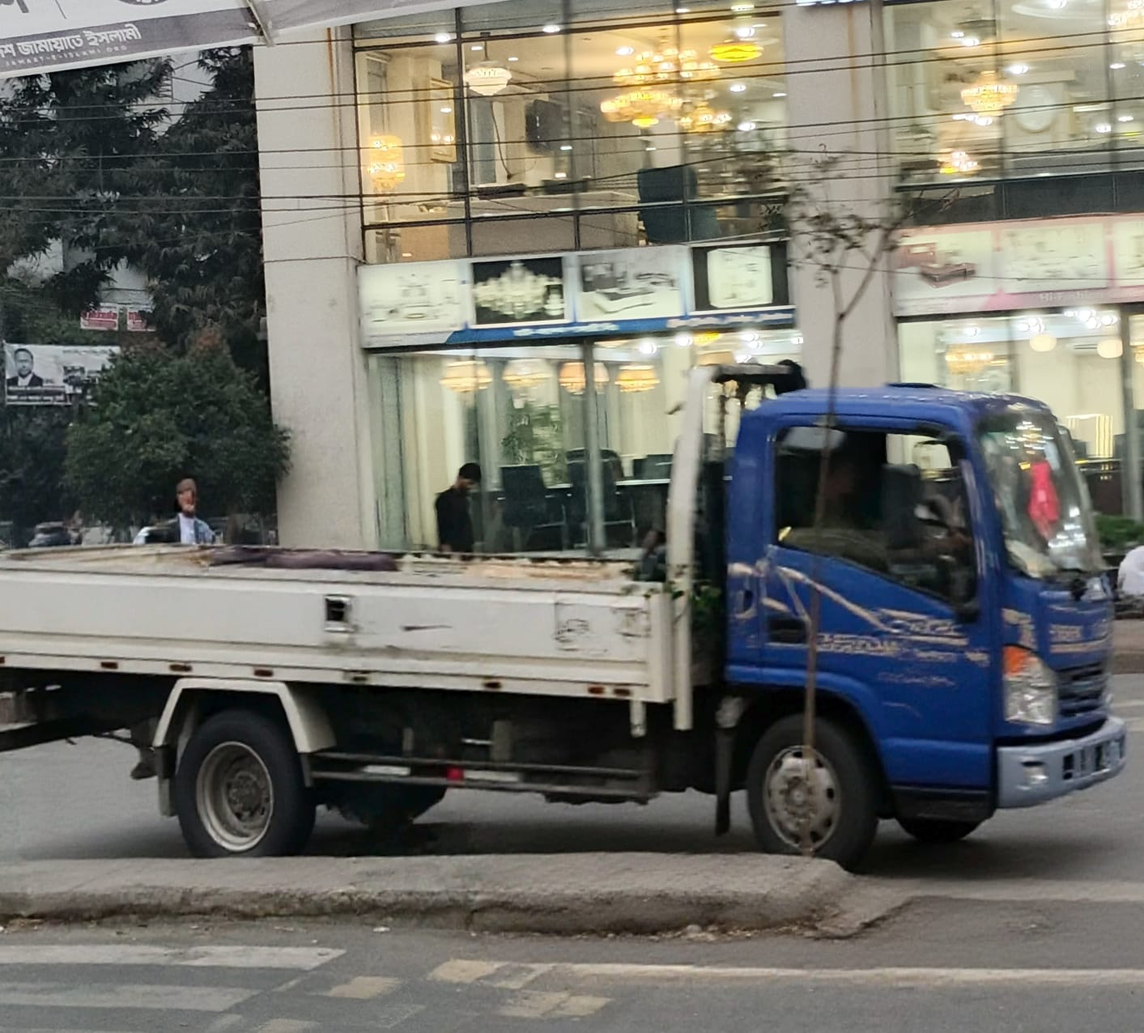Truck: (32, 306, 1144, 941)
